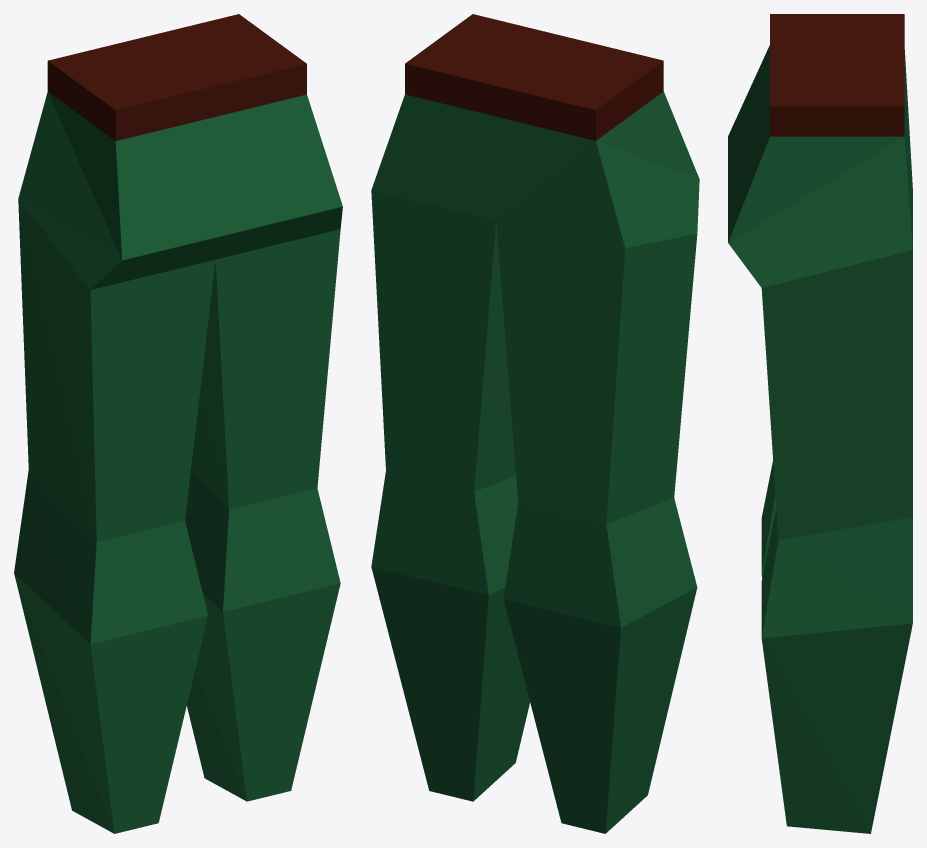
File: player_male_legs_36_0.obj
3 views of the same model, side by side, from view 1: azimuth 30°, elevation 25°; view 2: azimuth 150°, elevation 25°; view 3: azimuth 270°, elevation 25° (orthographic).
Bounding box in the file's own units: 0.2656 × 0.75 × 0.1719.
